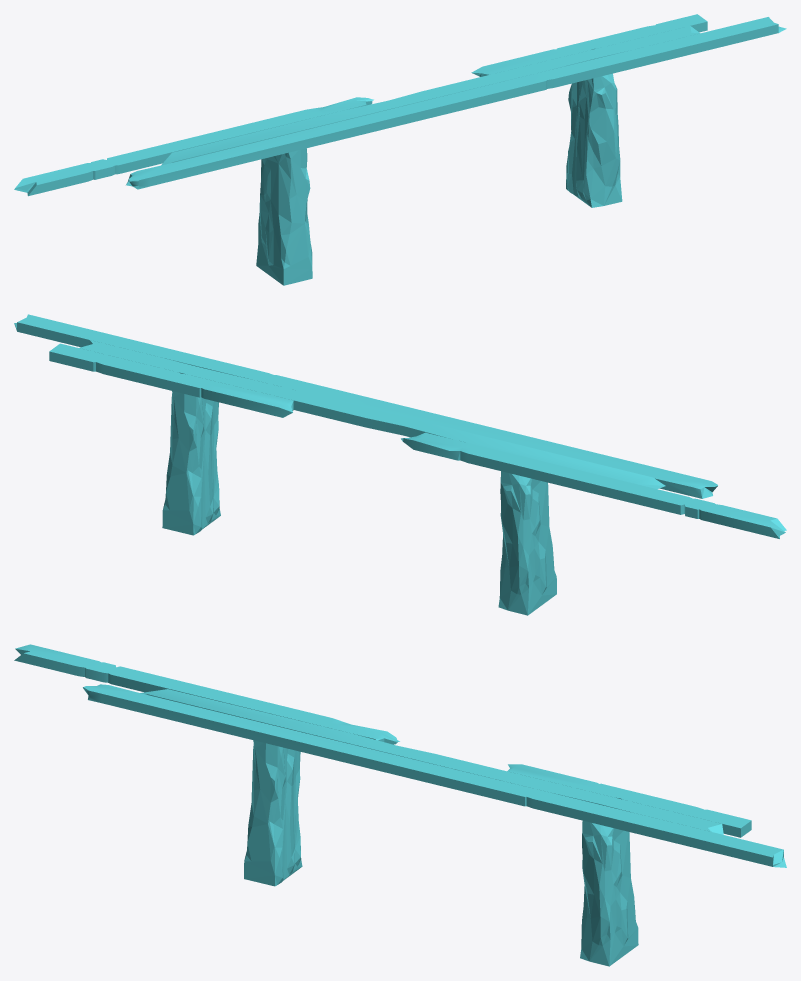
The model's file is New_platform6.fbx.
3 renders of one model, top to bottom at view 1: azimuth 30°, elevation 25°; view 2: azimuth 150°, elevation 25°; view 3: azimuth 330°, elevation 25°, orthographic. The views are drawn at different scales.
Parts seen in each view (by area): view 1: New_platform6; view 2: New_platform6; view 3: New_platform6.
Part boxes in pixels (x1,y1,x2,y2): New_platform6: (14,14,786,285); New_platform6: (14,314,786,615); New_platform6: (14,644,786,966).
Bounding box in the file's own units: 7626 × 1378 × 541.
